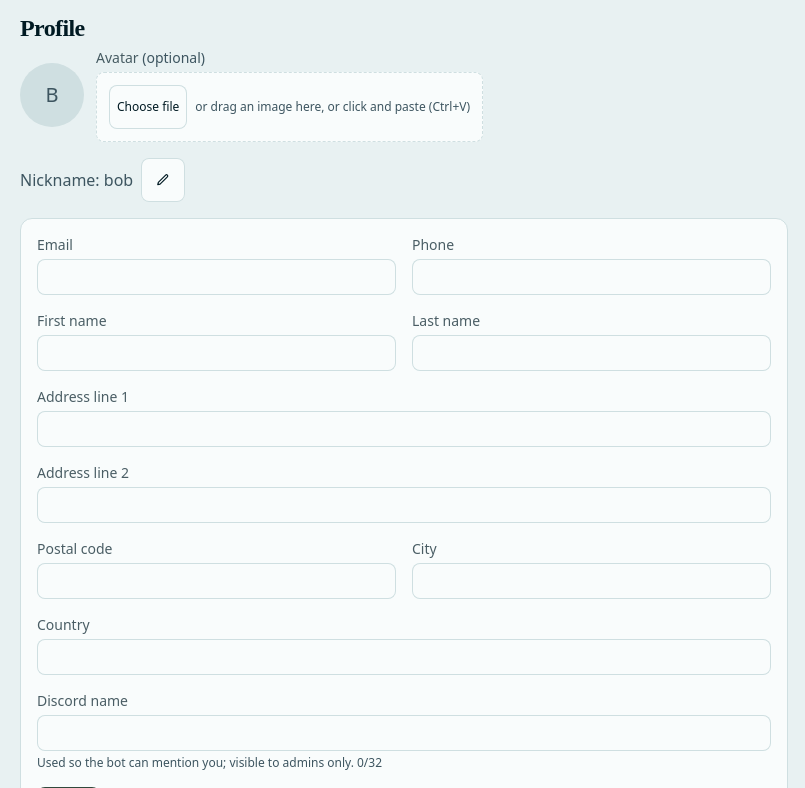
Test: ProfilePage › renames the nickname
Expected: the text "Nickname: bob" is shown, [20, 168, 133, 192]
Click the button named "Rename": [163, 180] box [141, 158, 185, 202]
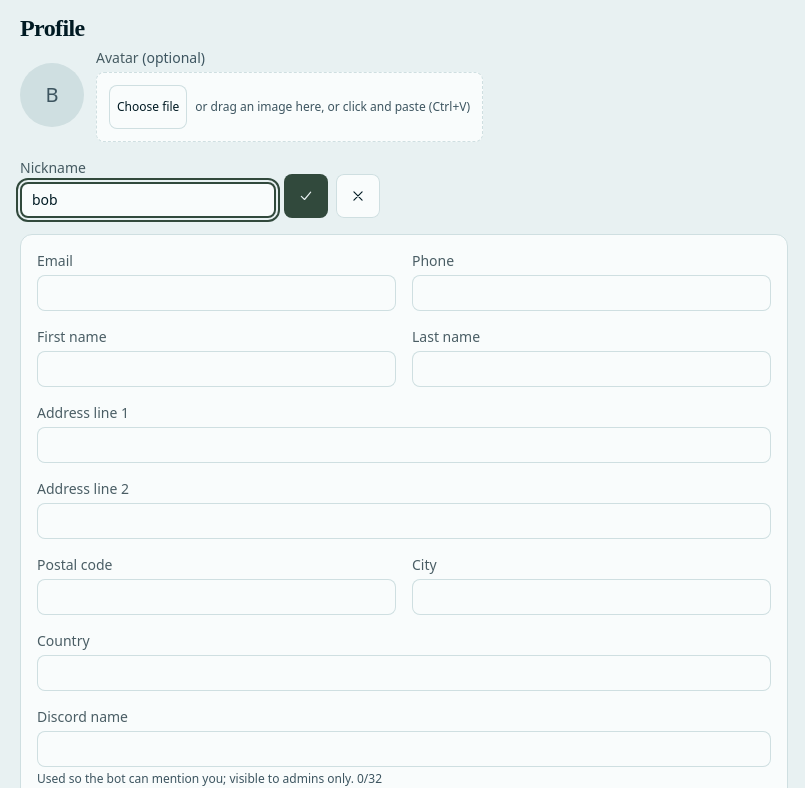
Replace the text in the field labelled "Nickname" with "bobby": [148, 200] box [20, 182, 276, 218]
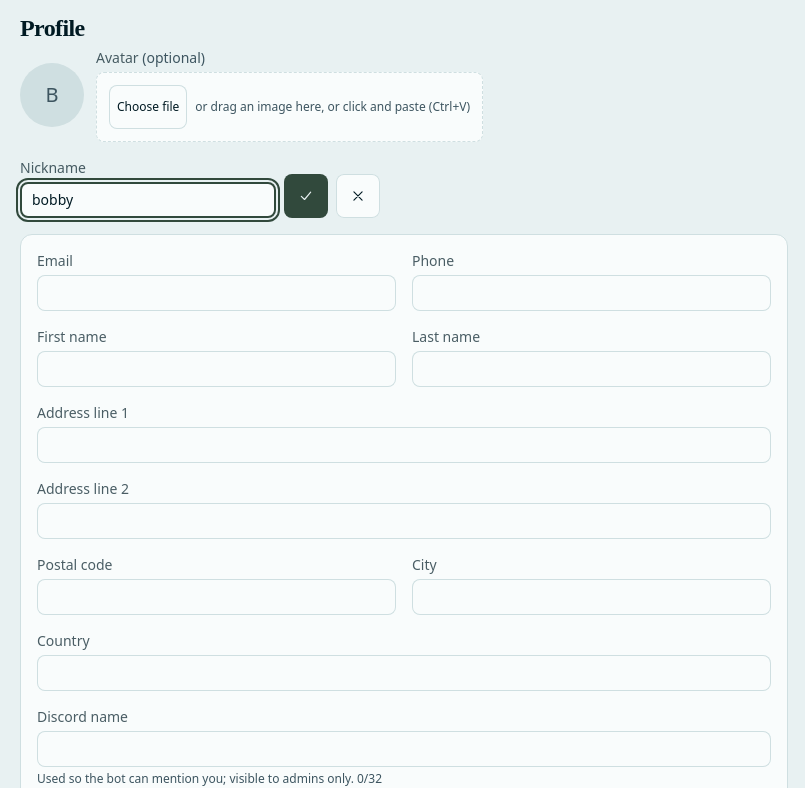
Click the button named "Save nickname": [306, 196] box [284, 174, 328, 218]
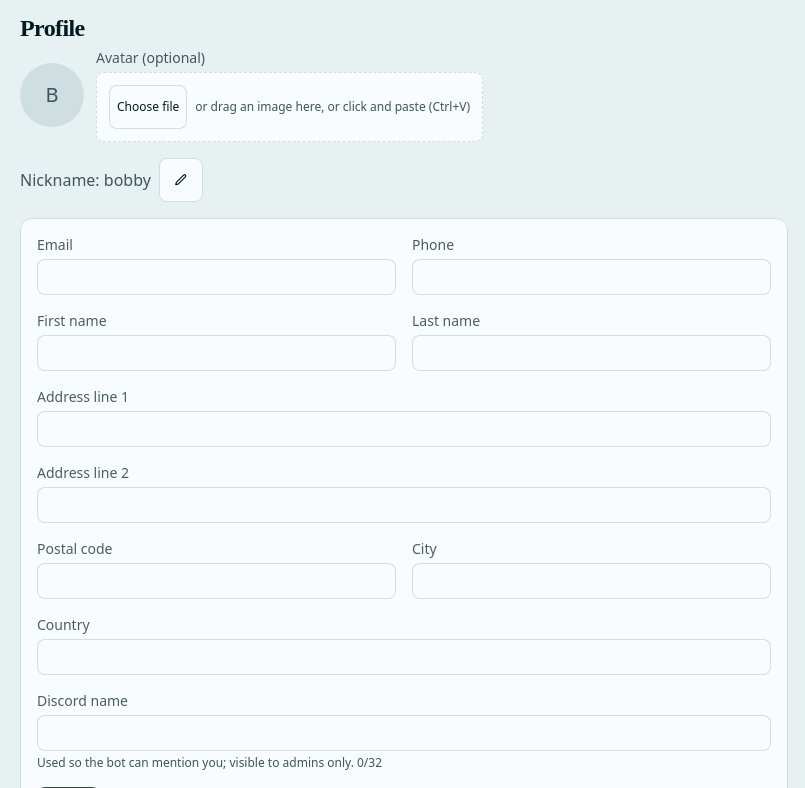
Expected: the text "Nickname: bobby" is shown, [20, 168, 151, 192]
